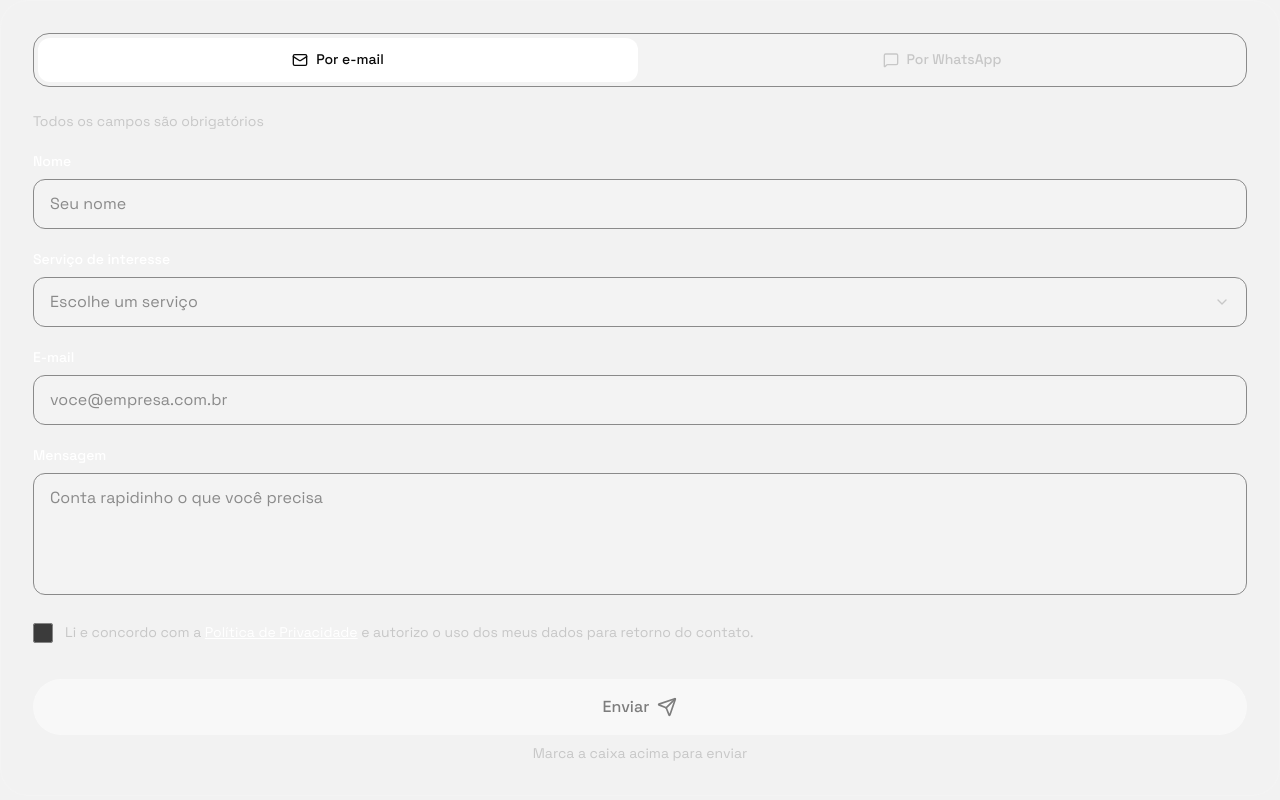
Test: ContactForm method toggle › moves the active pill and the field when the method changes
Click the button "Por WhatsApp".
click(942, 60)  # box [642, 38, 1242, 82]
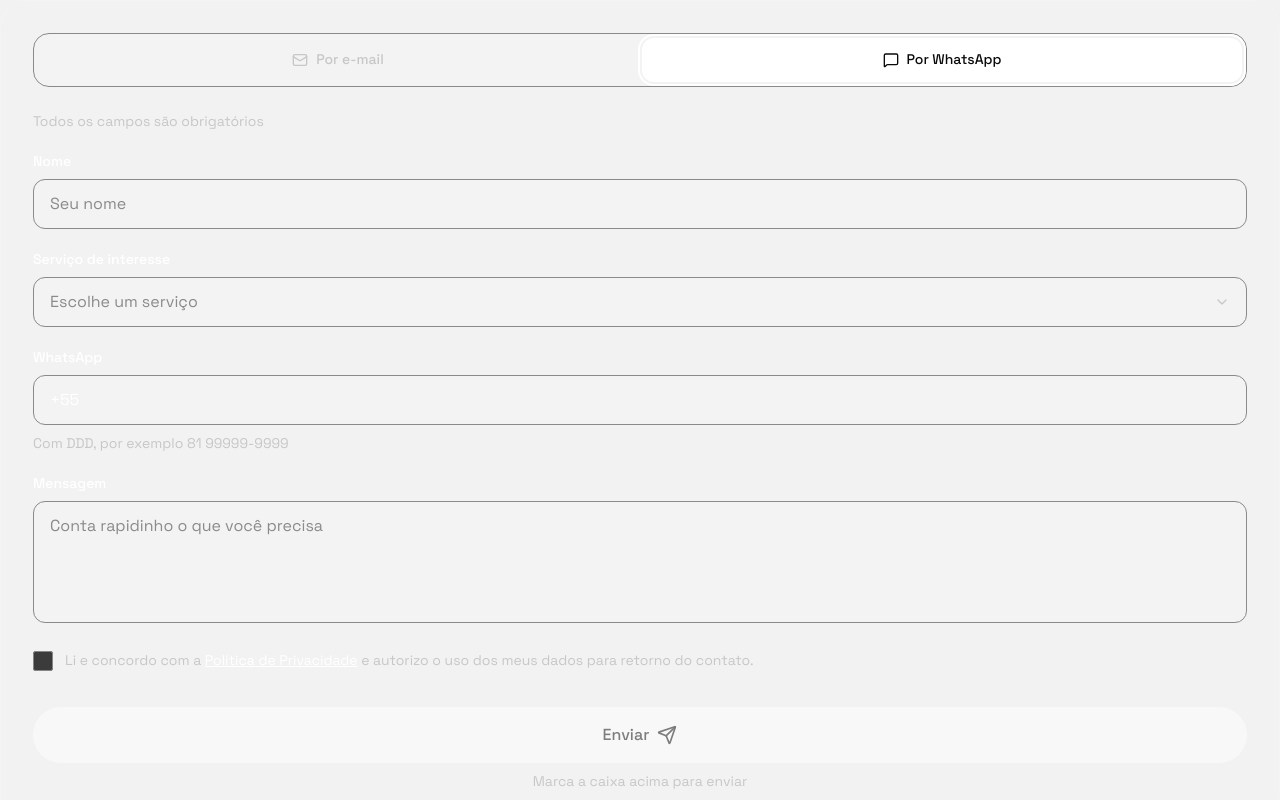
Now the field labelled "WhatsApp" is shown, box [33, 375, 1247, 425]
